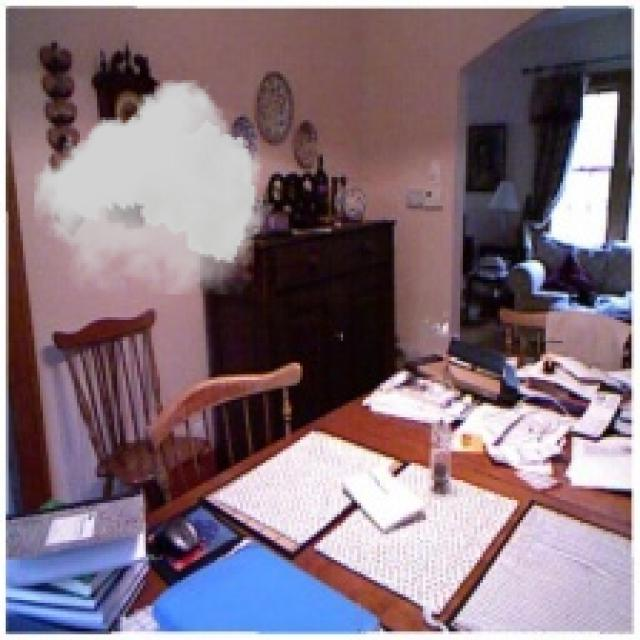smoke: (34, 80, 266, 294)
